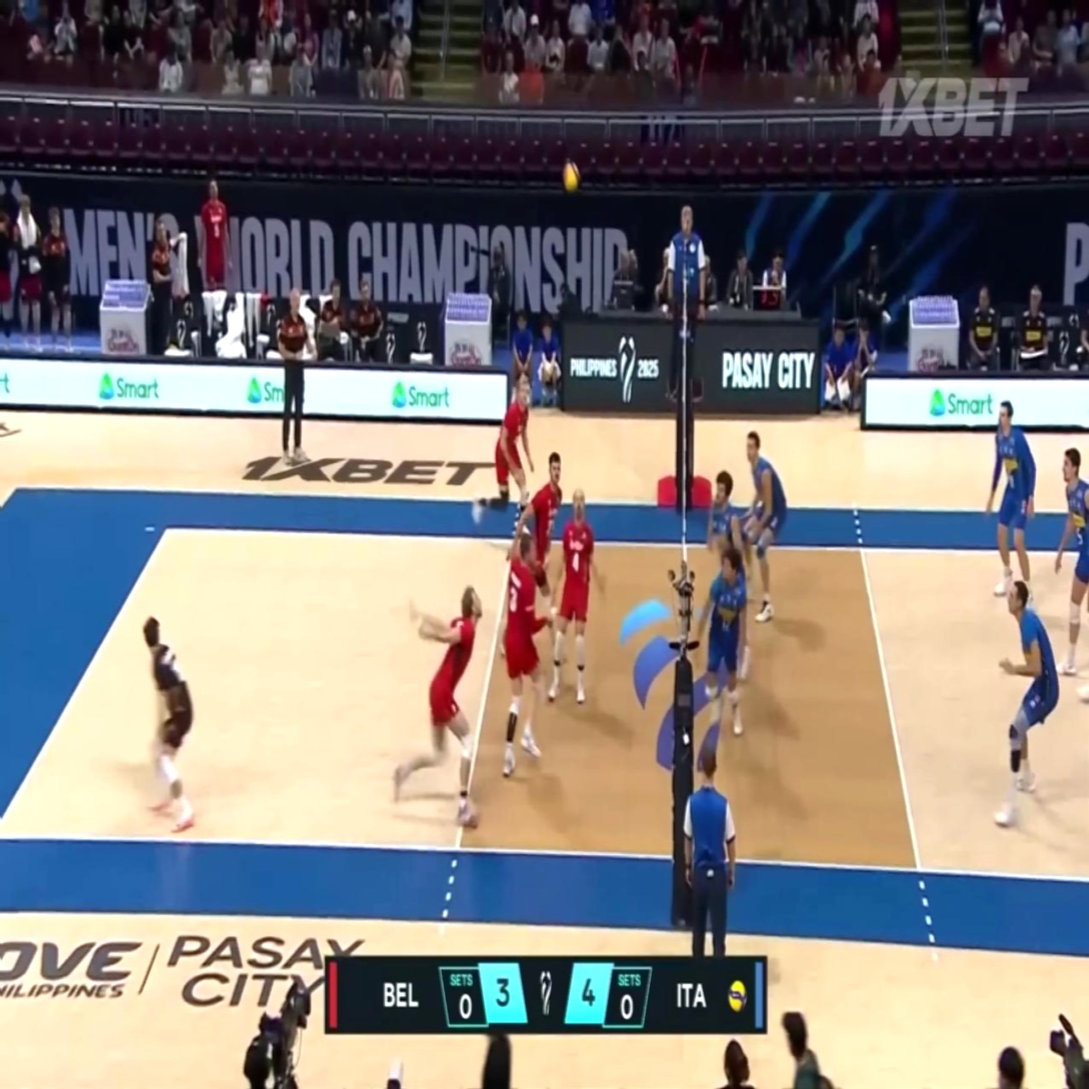ball: (563, 161, 578, 192)
